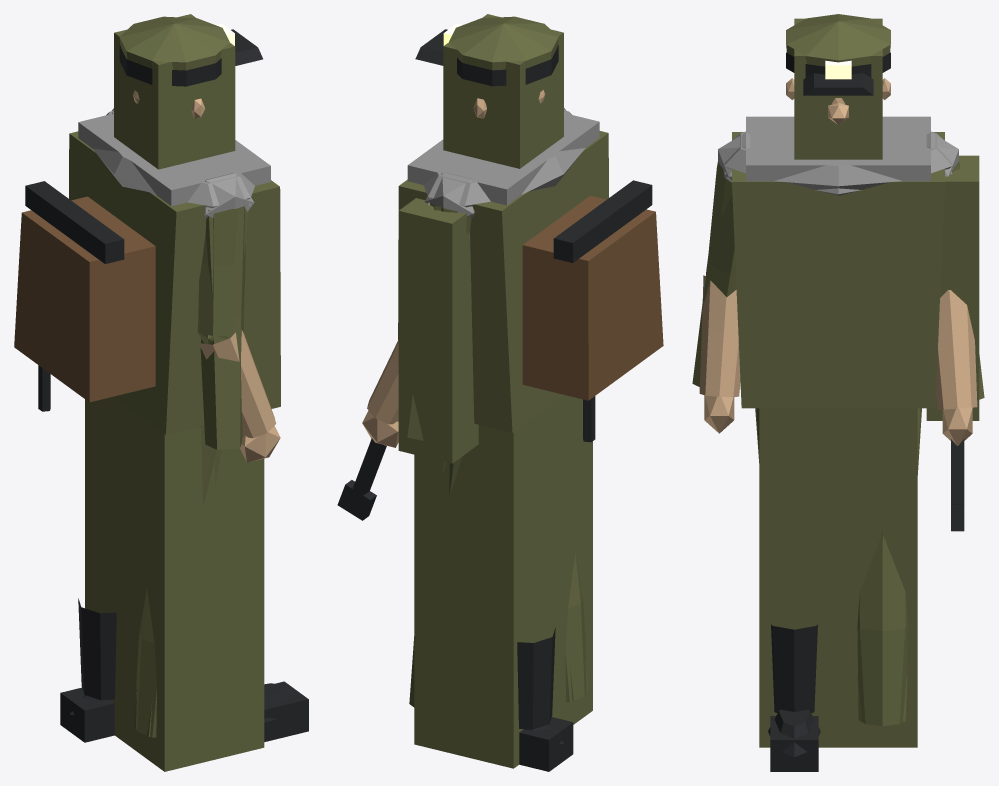
The model's file is meridian_engineer.glb.
The picture shows the model from 3 angles, left to right: view 1: azimuth 30°, elevation 25°; view 2: azimuth 150°, elevation 25°; view 3: azimuth 270°, elevation 25°; orthographic projection.
Visible parts, largest first — view 1: leg_l (×3), torso (×2), head (×2), arm_r (×2), leg_r (×2); view 2: leg_l (×3), torso (×3), arm_l (×2), head (×2), leg_r; view 3: torso (×3), leg_l (×2), head (×2), arm_l (×2), arm_r (×2), leg_r (×2).
Boxes of the visible parts, box(x1,y1,x2,y2) form: leg_l (×3): box(60, 396, 264, 771); torso (×2): box(14, 111, 280, 434); head (×2): box(114, 14, 262, 169); arm_r (×2): box(197, 173, 280, 462); leg_r (×2): box(134, 427, 308, 741); leg_l (×3): box(409, 395, 592, 771); torso (×3): box(398, 110, 663, 442); arm_l (×2): box(337, 172, 478, 520); head (×2): box(415, 14, 563, 168); leg_r: box(565, 553, 586, 702); torso (×3): box(724, 116, 952, 408); leg_l (×2): box(759, 408, 921, 747); head (×2): box(786, 14, 890, 159); arm_l (×2): box(926, 132, 979, 531); arm_r (×2): box(692, 132, 750, 433); leg_r (×2): box(755, 408, 820, 771).
Size of the model in its own units: 0.6079 by 1.76 by 0.6634.
